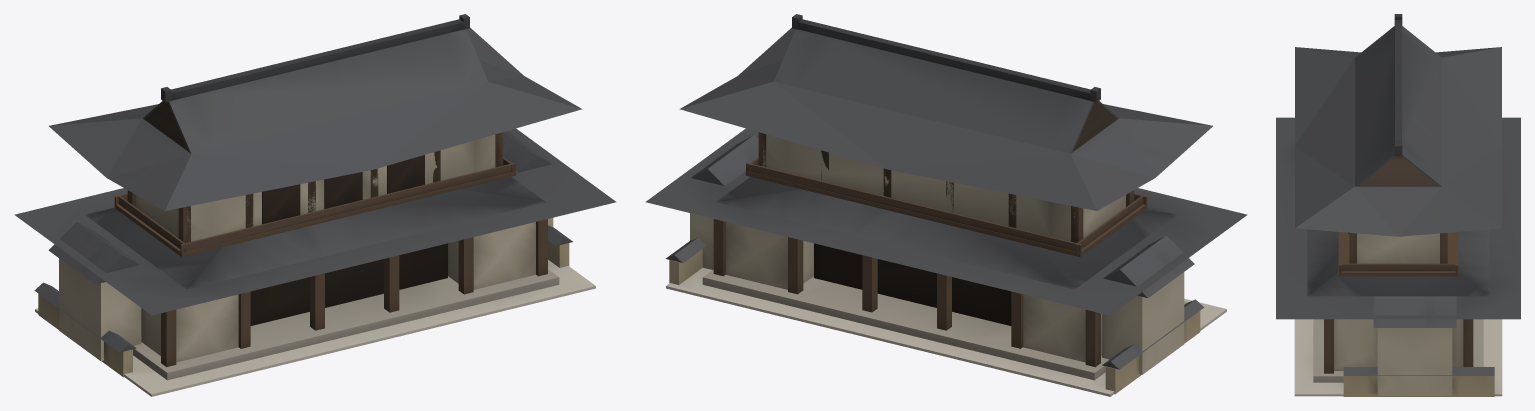
Rendered from chion-in-sanmon.glb.
3 views of the same model, side by side, from view 1: azimuth 30°, elevation 25°; view 2: azimuth 150°, elevation 25°; view 3: azimuth 270°, elevation 25° (orthographic). The views are drawn at different scales.
Parts seen in each view (by area): view 1: p2_roofs, p1_halls, p0_grounds; view 2: p2_roofs, p1_halls, p0_grounds; view 3: p2_roofs, p1_halls, p0_grounds.
Boxes of the visible parts, x1=… form: p2_roofs: x1=14, y1=14, x2=616, y2=315; p1_halls: x1=48, y1=131, x2=559, y2=380; p0_grounds: x1=34, y1=225, x2=595, y2=396; p2_roofs: x1=645, y1=14, x2=1247, y2=315; p1_halls: x1=690, y1=132, x2=1194, y2=380; p0_grounds: x1=665, y1=238, x2=1226, y2=396; p2_roofs: x1=1276, y1=14, x2=1520, y2=319; p1_halls: x1=1313, y1=232, x2=1483, y2=395; p0_grounds: x1=1294, y1=319, x2=1502, y2=396.
Bounding box in the file's own units: 58 × 29.26 × 29.52.
